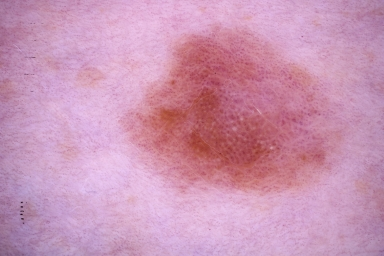nevus: (125, 27, 330, 190)
